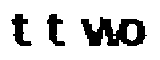o: (120, 17, 148, 50)
t: (9, 11, 34, 49), (44, 11, 67, 51)
w: (74, 14, 121, 53)
